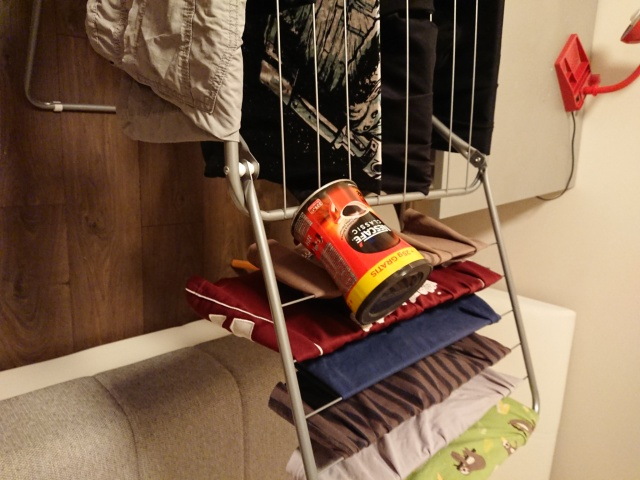Nescafe Classic 225g: (288, 176, 437, 327)
